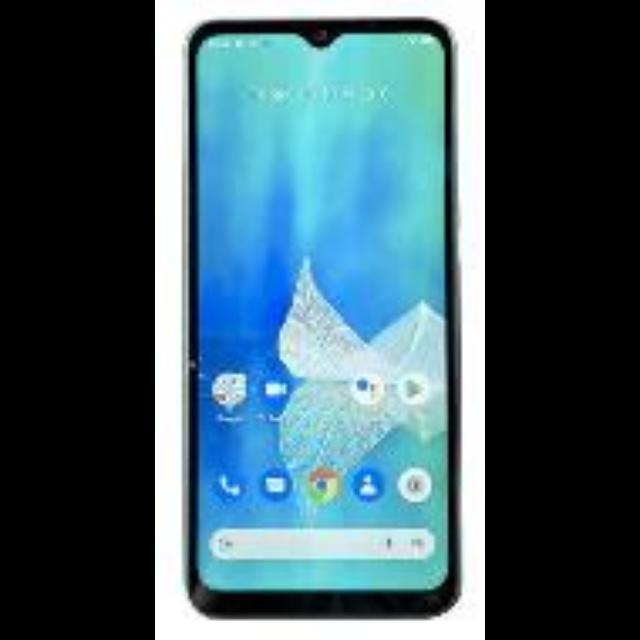phone: (175, 10, 469, 630)
